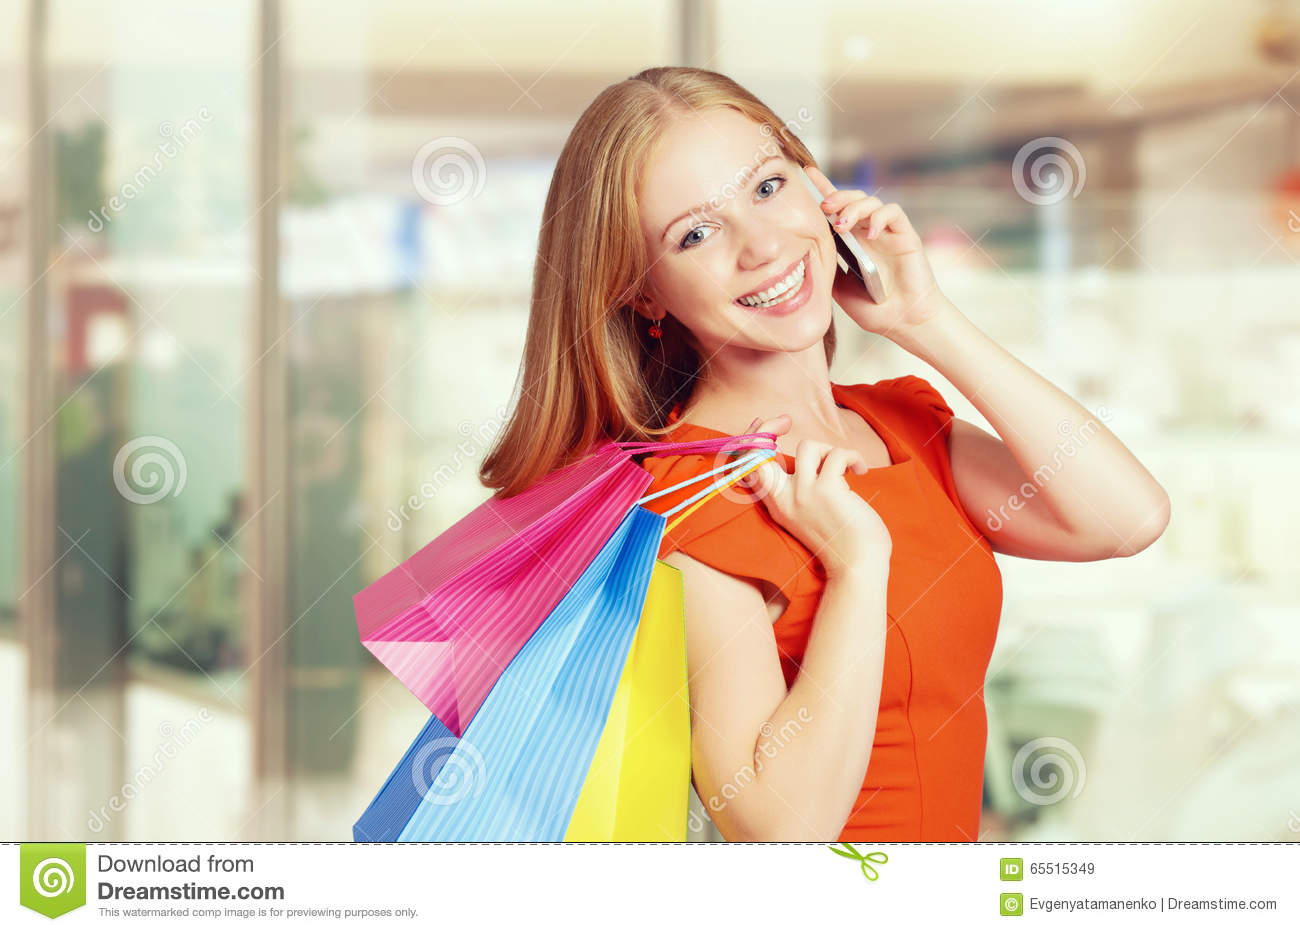phone: (798, 168, 892, 305)
talk: (652, 141, 942, 352)
